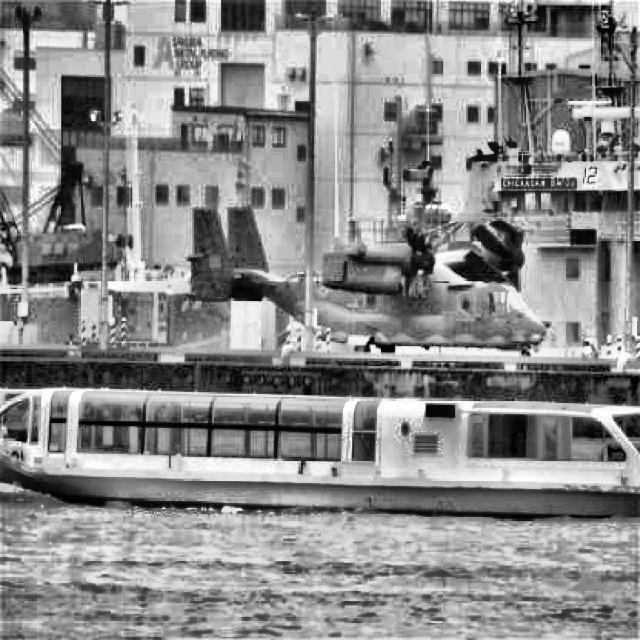V22: (186, 205, 552, 357)
